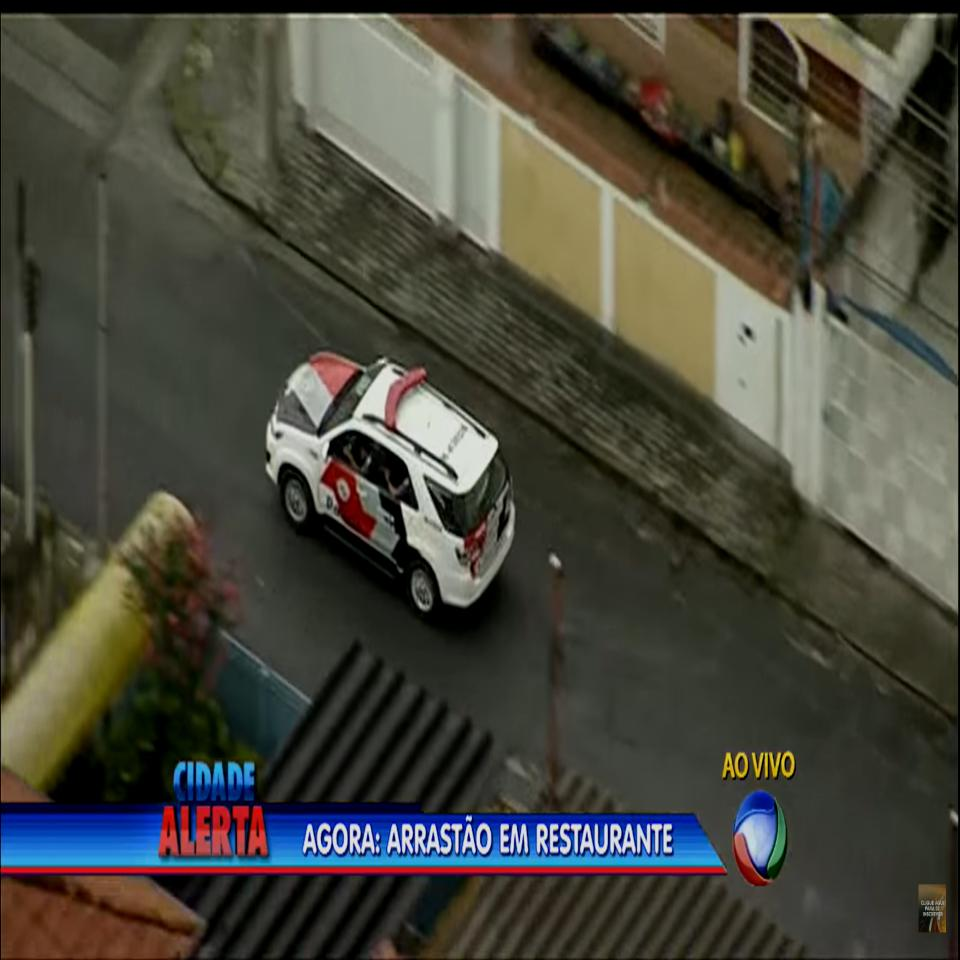viatura: (264, 342, 518, 626)
